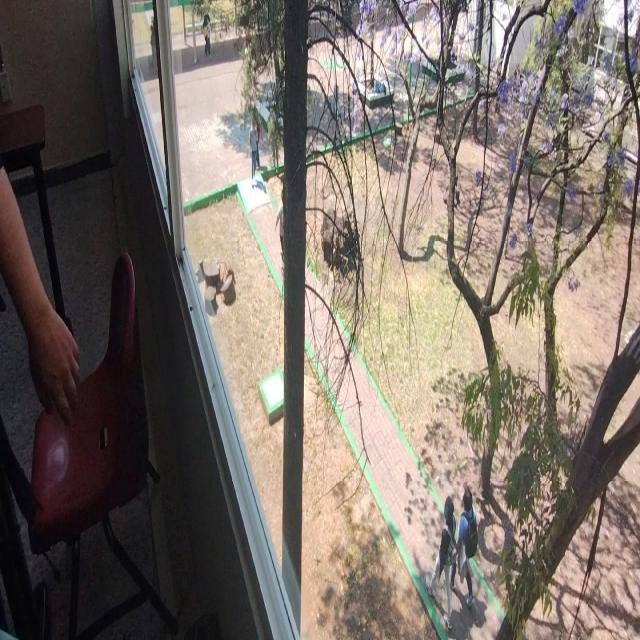adult: (425, 495, 456, 628), (449, 486, 478, 604), (249, 116, 260, 188)
